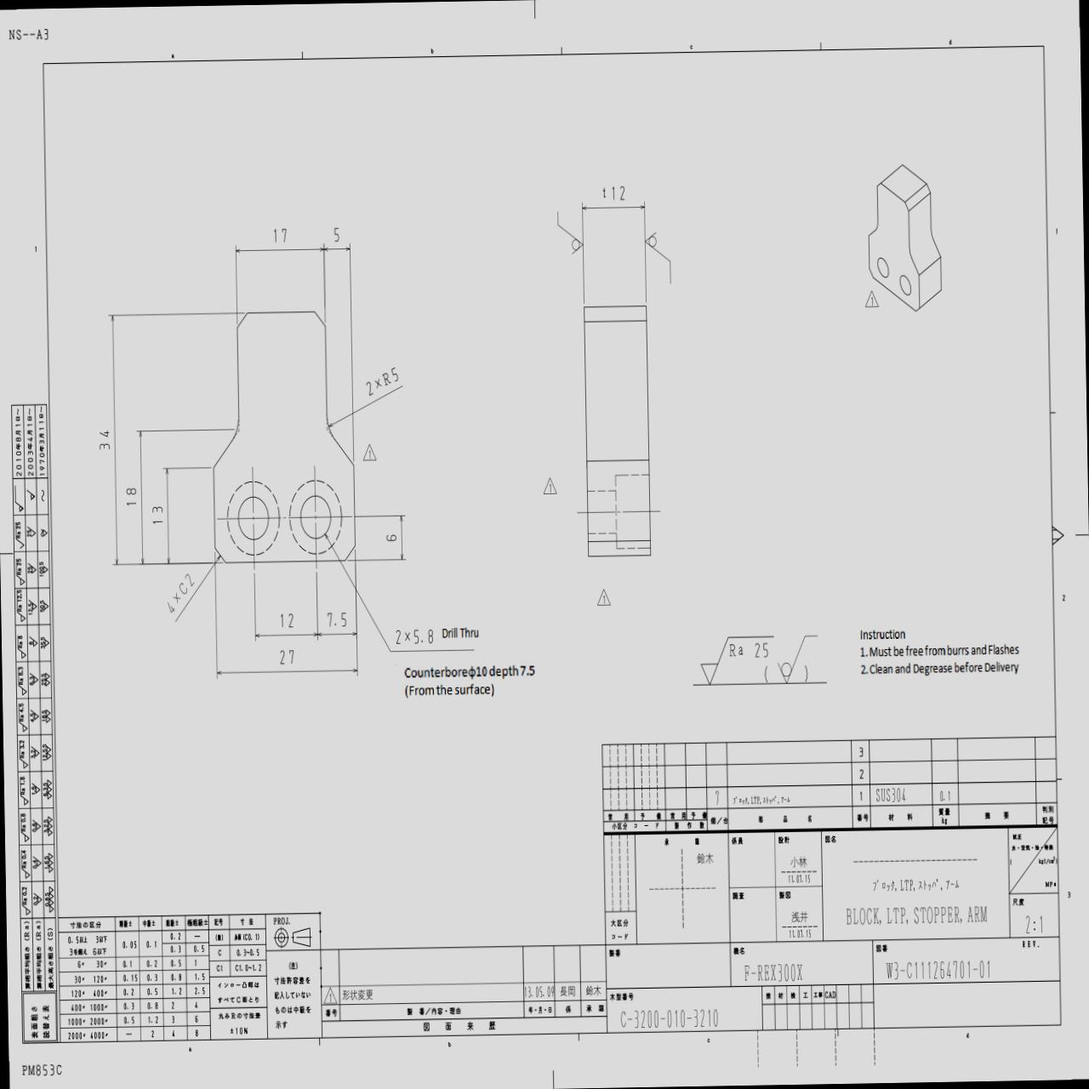basic_dimension: (413, 629, 435, 646), (327, 613, 348, 628), (100, 430, 111, 451), (280, 650, 295, 665), (280, 613, 294, 629), (126, 487, 137, 506), (152, 506, 163, 524), (274, 228, 287, 243), (386, 534, 397, 542), (334, 227, 339, 243)
dimension_chamfer_symbol: (176, 570, 197, 598)
dimension_radius_symbol: (380, 366, 400, 390)
dimension_thickness_symbol: (602, 185, 626, 201)
revision_triangle_symbol: (362, 444, 377, 461), (543, 477, 557, 494), (597, 589, 611, 606), (865, 290, 879, 307)
surface_finish_symbol: (700, 636, 774, 687), (777, 635, 818, 684), (645, 232, 671, 284), (557, 211, 584, 254)
